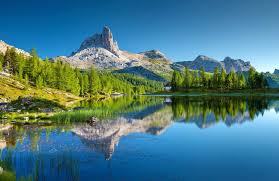lake: (14, 102, 279, 179)
mountain: (13, 39, 266, 95)
sky: (2, 2, 278, 54)
tree: (1, 55, 150, 91), (170, 70, 276, 92)
